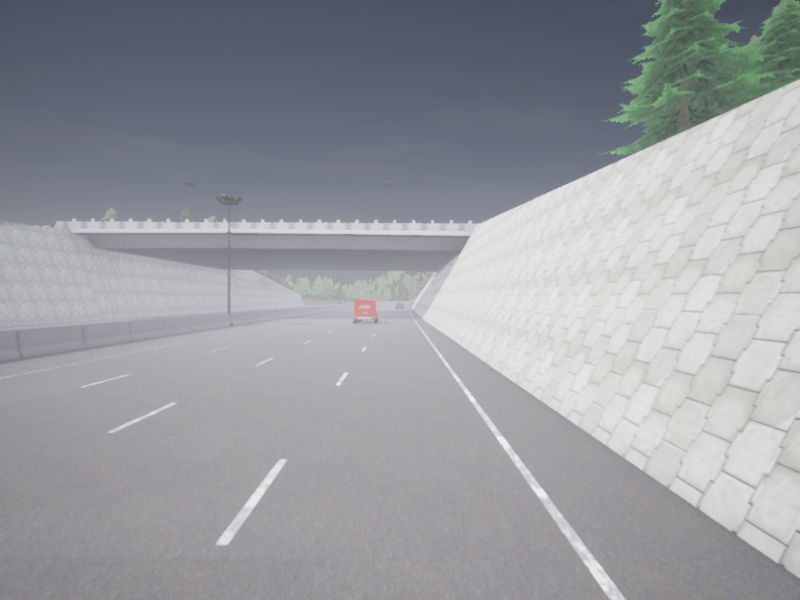vehicle: (353, 299, 379, 322), (396, 303, 402, 308)
